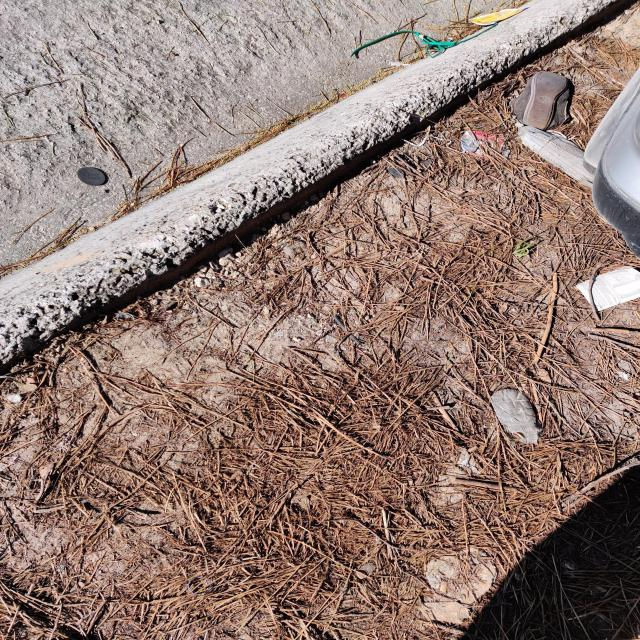litter: (344, 19, 502, 61), (509, 125, 601, 191), (508, 69, 572, 130), (487, 387, 551, 448), (573, 265, 637, 317), (528, 271, 559, 368), (459, 129, 513, 164), (397, 132, 470, 156), (466, 6, 535, 28), (384, 156, 436, 182), (330, 315, 365, 347), (73, 164, 115, 188), (187, 573, 218, 597), (113, 310, 141, 325)
